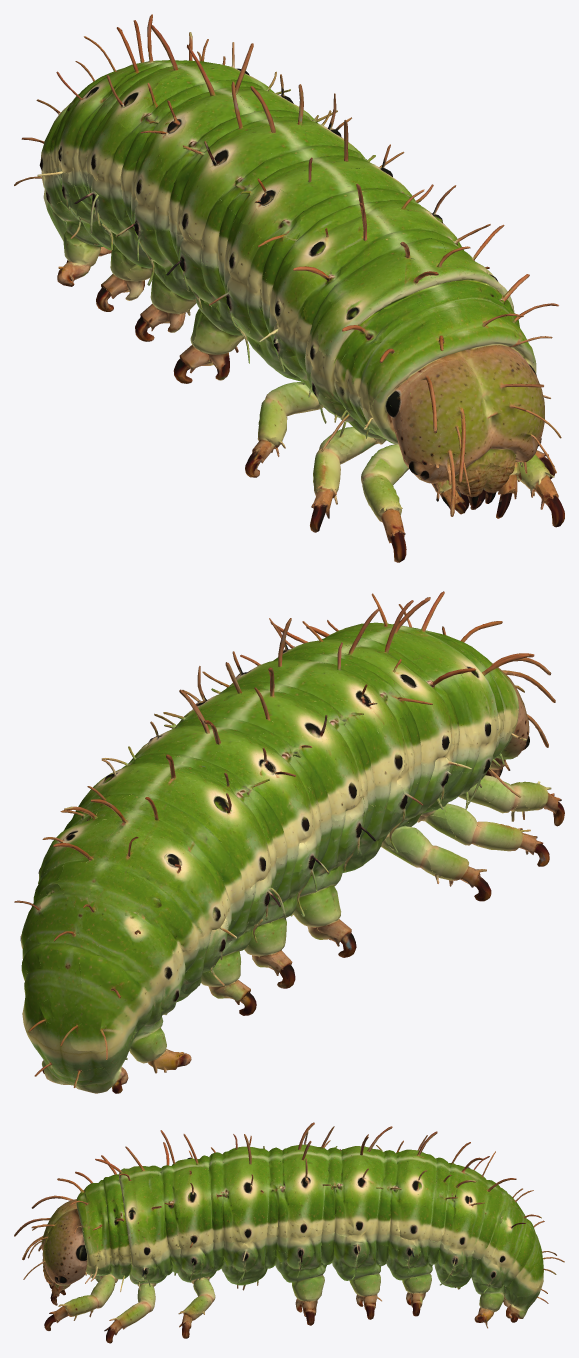
File: ulat-blender.glb
3 renders of one model, top to bottom at view 1: azimuth 30°, elevation 25°; view 2: azimuth 150°, elevation 25°; view 3: azimuth 270°, elevation 25°, orthographic. The views are drawn at different scales.
Visible parts, largest first — view 1: Mesh_0; view 2: Mesh_0; view 3: Mesh_0.
Boxes of the visible parts, x1=… form: Mesh_0: x1=14, y1=14, x2=564, y2=562; Mesh_0: x1=14, y1=591, x2=564, y2=1093; Mesh_0: x1=14, y1=1122, x2=564, y2=1343.
Bounding box in the file's own units: 0.6123 × 0.7109 × 1.93.
Materials: 1 (1 with a texture image).
